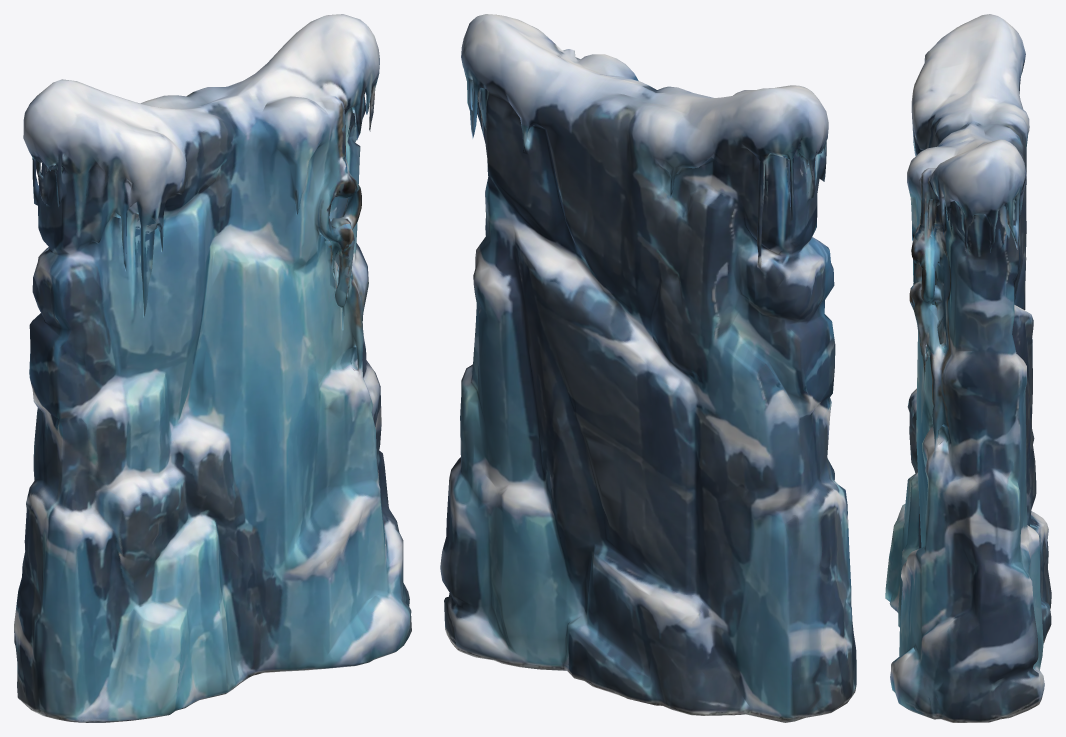
The model's file is SM_Tripo_FrostSeaRampart.glb.
3 renders of one model, left to right at view 1: azimuth 30°, elevation 25°; view 2: azimuth 150°, elevation 25°; view 3: azimuth 270°, elevation 25°, orthographic. The views are drawn at different scales.
Visible parts, largest first — view 1: SM_Tripo_FrostSeaRampart_LOD0; view 2: SM_Tripo_FrostSeaRampart_LOD0; view 3: SM_Tripo_FrostSeaRampart_LOD0.
Part boxes in pixels (bbox=[...]): SM_Tripo_FrostSeaRampart_LOD0: bbox=[14, 14, 411, 722]; SM_Tripo_FrostSeaRampart_LOD0: bbox=[440, 14, 856, 722]; SM_Tripo_FrostSeaRampart_LOD0: bbox=[885, 14, 1051, 722].
Bounding box in the file's own units: 5.75 × 8.8 × 2.38.
Materials: 1 (1 with a texture image).
